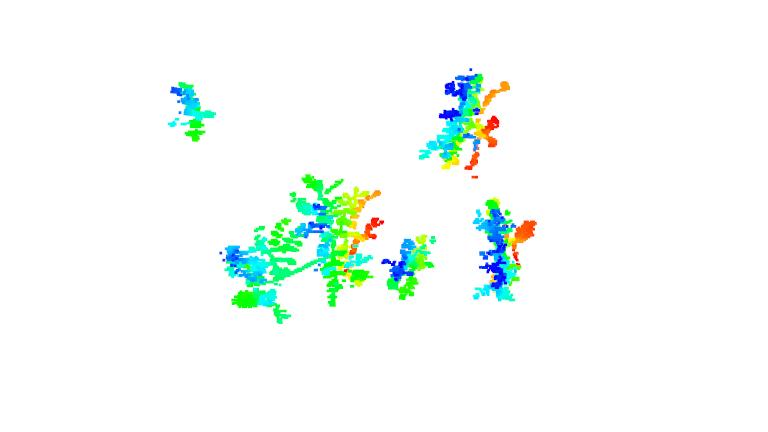chickpea: (289, 173, 386, 309), (419, 69, 511, 173), (222, 215, 300, 323), (470, 195, 534, 303), (379, 234, 440, 301), (162, 77, 220, 142)
